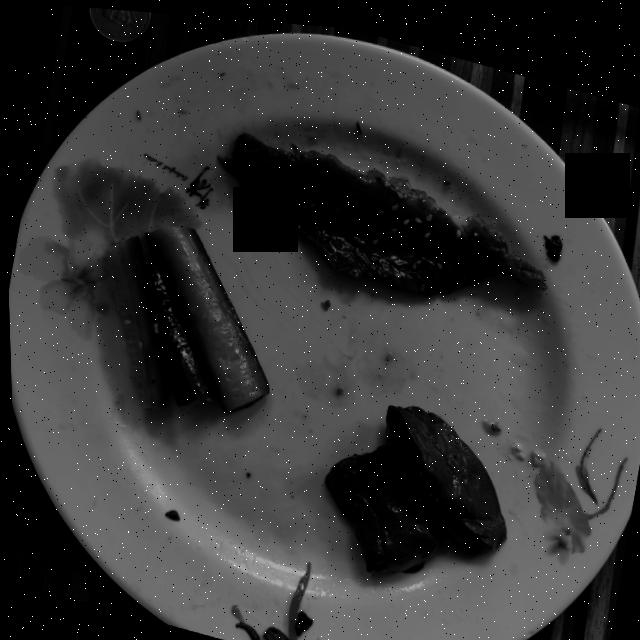Kabayaki sea bream fillet: (218, 129, 545, 289)
coin: (89, 6, 151, 41)
cucumber: (105, 223, 267, 409)
pig blood curd: (322, 399, 504, 566)
